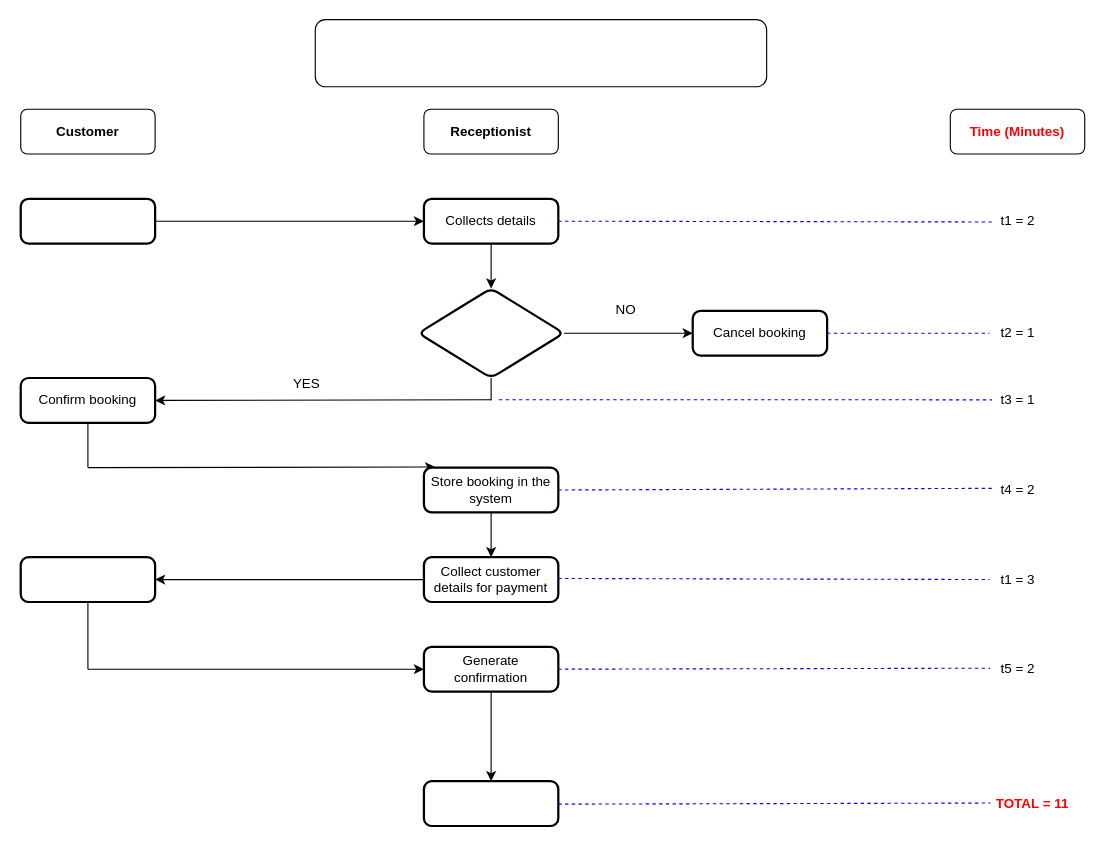
The diagram is 1104 pixels wide and 847 high, and some of its shapes have lost their labels. The shapes that lost their labels are listed below. From the top down, each one's centre as x and y in pixels, then its label:
At (540,52): "System Flowchart of Baguio LeFern Hotel".
At (87,220): "Initiates booking".
At (490,333): "Are there rooms available?".
At (87,579): "Provides details for payment processing".
At (490,803): "Booking complete".
